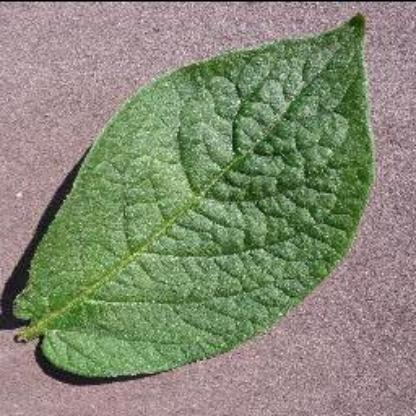Healthy-plant: (18, 13, 380, 392)
